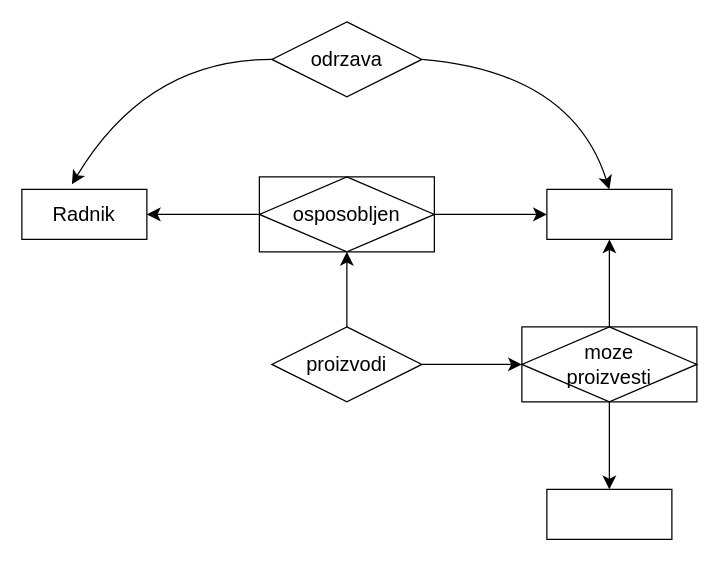
Some shapes in this 719 by 561 pixel diagram are drawn without their labels. Here are the shapes that lost their labels. From the top down, the box of each, then its label:
(546, 188, 672, 239): Masina
(546, 488, 672, 539): Deo
